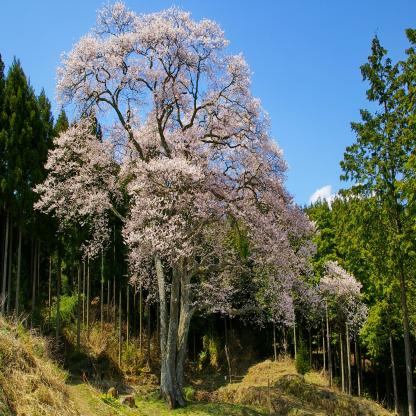EdohiganSakura: (32, 1, 369, 350)
